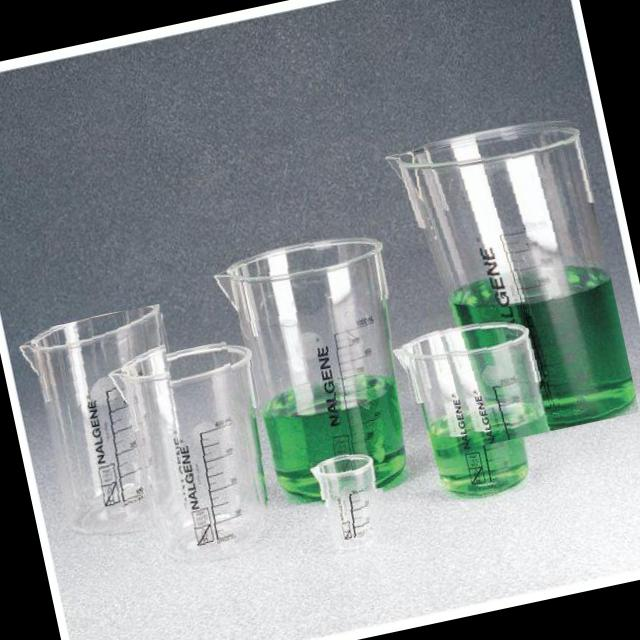Glass: (383, 111, 640, 452), (208, 223, 433, 512), (16, 303, 205, 547), (110, 334, 297, 572), (392, 315, 544, 511), (311, 442, 399, 562)
